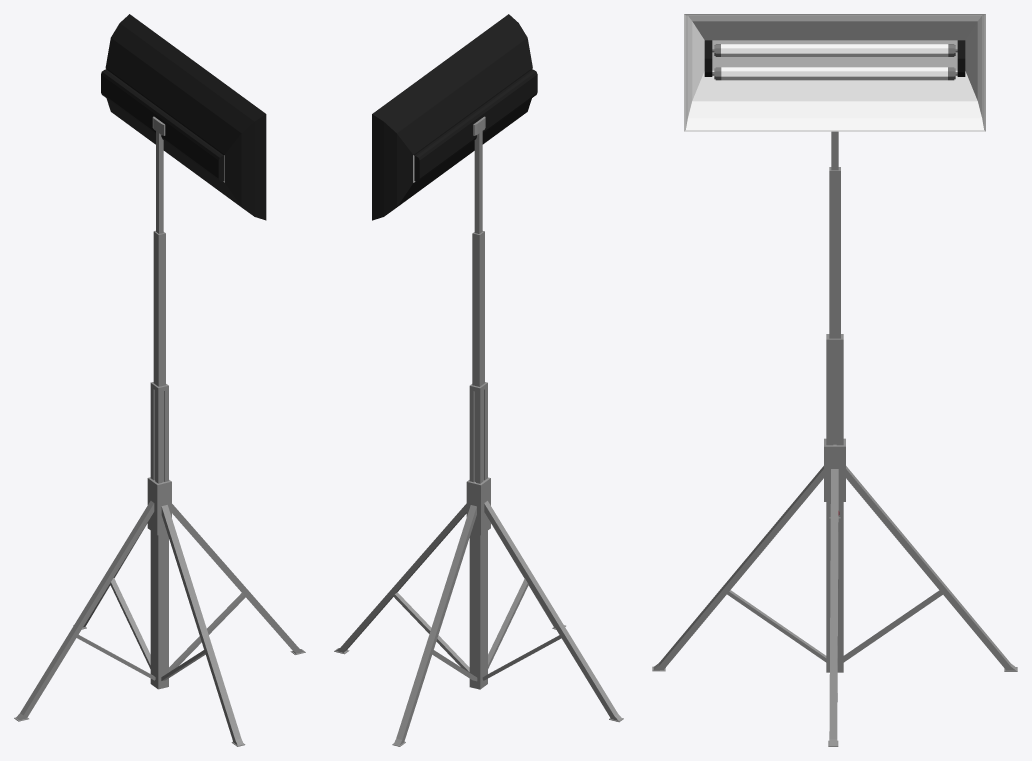
Rendered from Industrial_Lamp_on_Pole.fbx.
The picture shows the model from 3 angles, left to right: view 1: azimuth 30°, elevation 25°; view 2: azimuth 150°, elevation 25°; view 3: azimuth 270°, elevation 25°; orthographic projection. The views are drawn at different scales.
Parts seen in each view (by area): view 1: Industrial_Lamp_on_Pole; view 2: Industrial_Lamp_on_Pole; view 3: Industrial_Lamp_on_Pole.
Part boxes in pixels (box(x1,y1,x2,y2)): Industrial_Lamp_on_Pole: box(14, 14, 305, 746); Industrial_Lamp_on_Pole: box(334, 14, 623, 746); Industrial_Lamp_on_Pole: box(652, 14, 1017, 746).
Bounding box in the file's own units: 105 × 215 × 105.
Materials: 2 (2 with a texture image).
